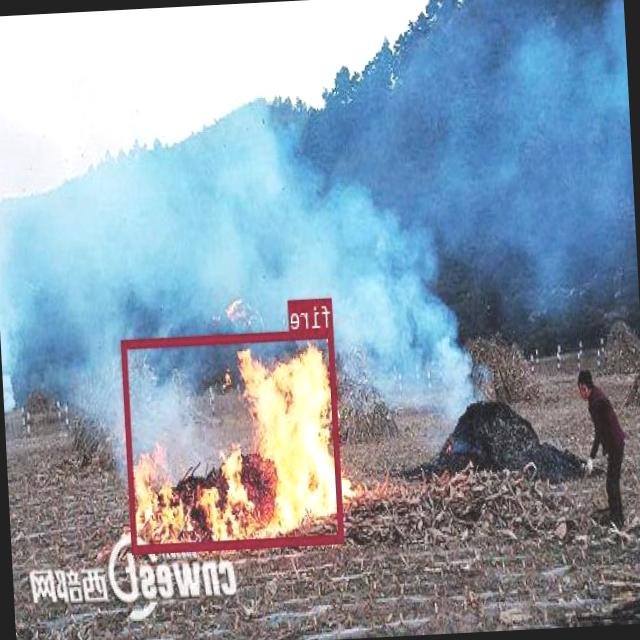fire: (123, 328, 344, 552)
